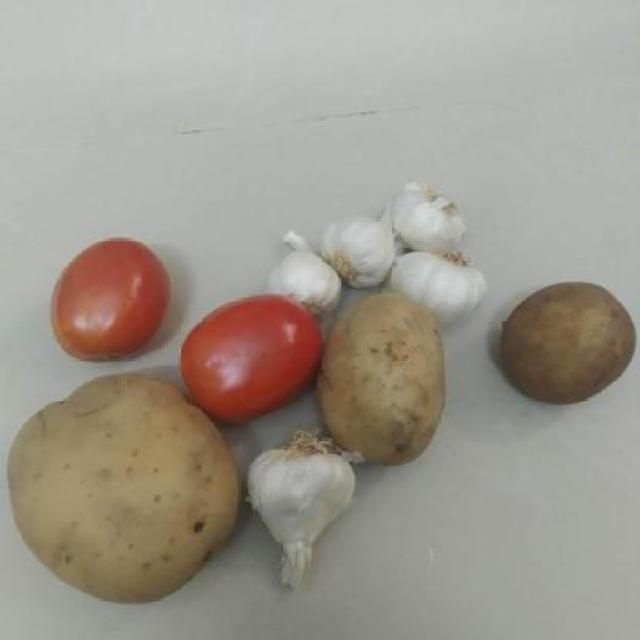Garlic: (245, 430, 362, 604), (272, 228, 346, 312), (392, 172, 468, 251), (389, 249, 489, 308), (326, 216, 399, 290)
Potato: (7, 378, 255, 614), (322, 294, 448, 472), (497, 281, 640, 414)
Tomato: (177, 289, 326, 431), (43, 230, 169, 370)
